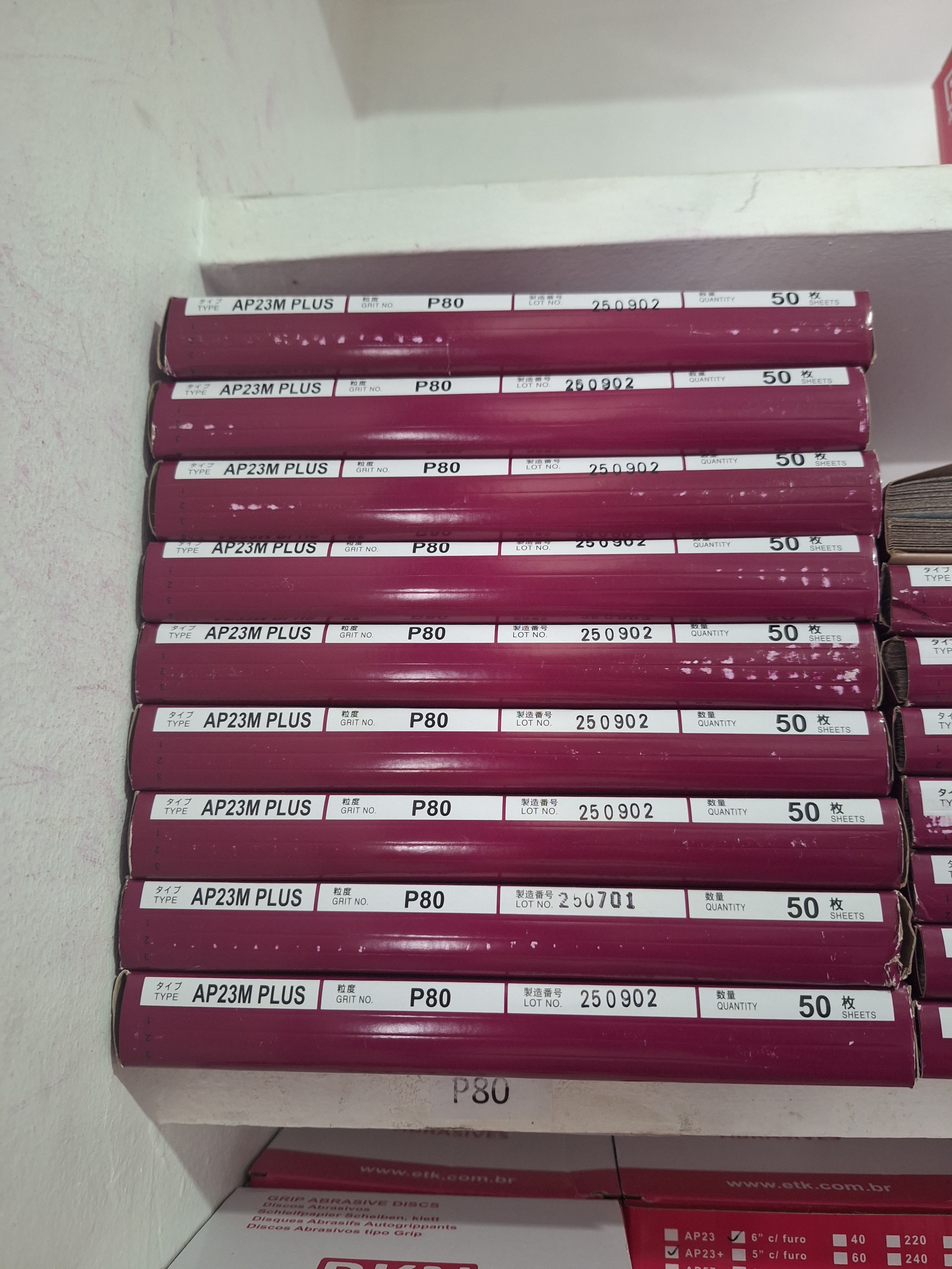grao: (321, 973, 504, 1020), (318, 878, 497, 917), (326, 789, 505, 828), (347, 287, 515, 328), (335, 372, 502, 411), (327, 618, 497, 653), (342, 453, 511, 488), (326, 704, 501, 737), (330, 537, 499, 570)
objects: (75, 236, 938, 1113)
